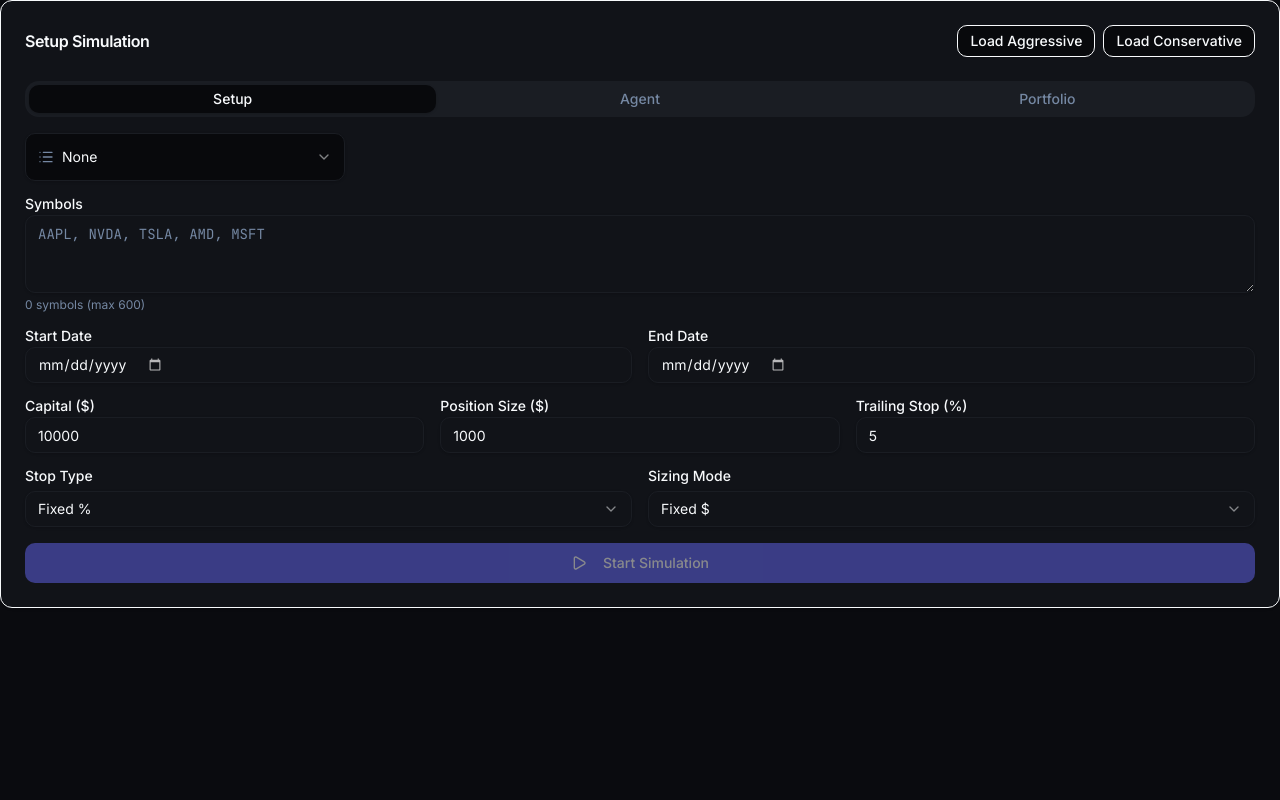
Test case: ArenaSetupForm › should enable submit button with valid inputs
Type "AAPL" into the text box labelled "Symbols". click: coordinates (640, 254)
box: [25,215,1255,293]
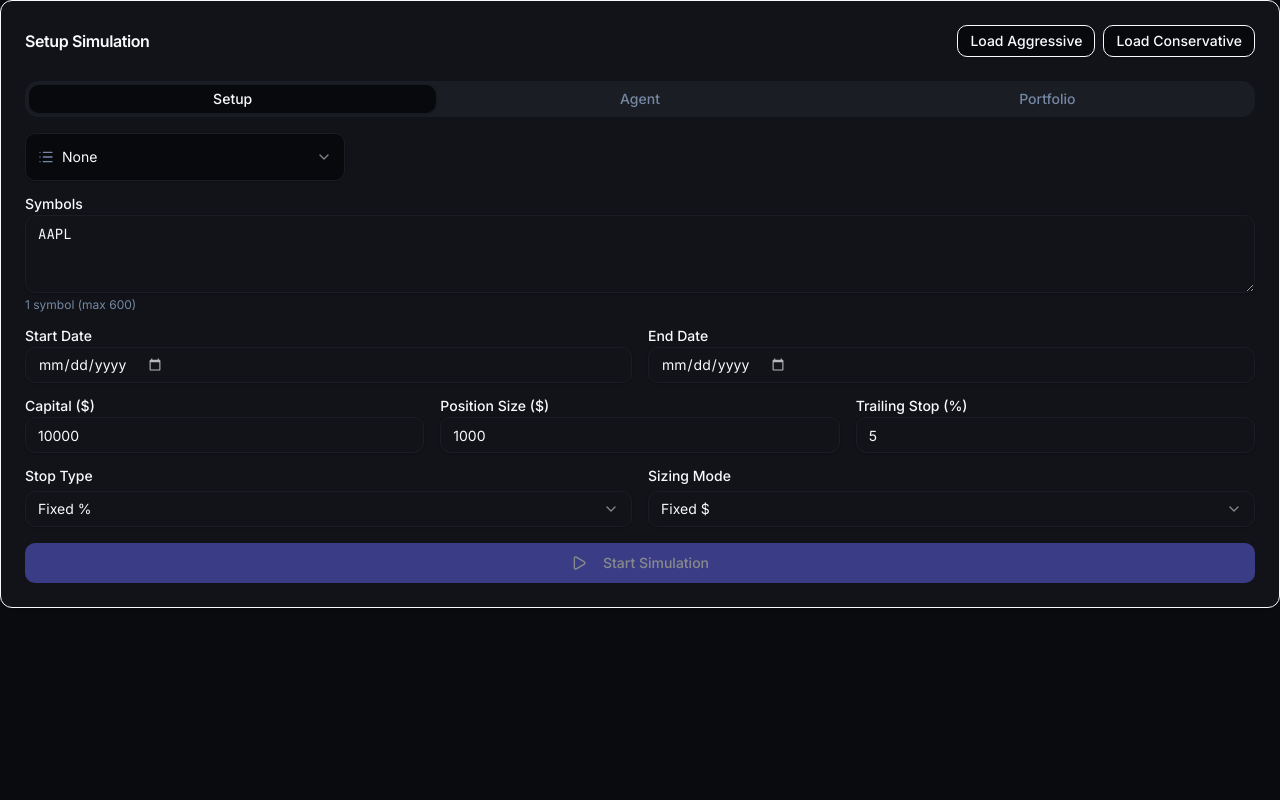
Type "2024-01-01" into the date field labelled "Start Date". click: coordinates (328, 365)
box: [25,347,632,383]
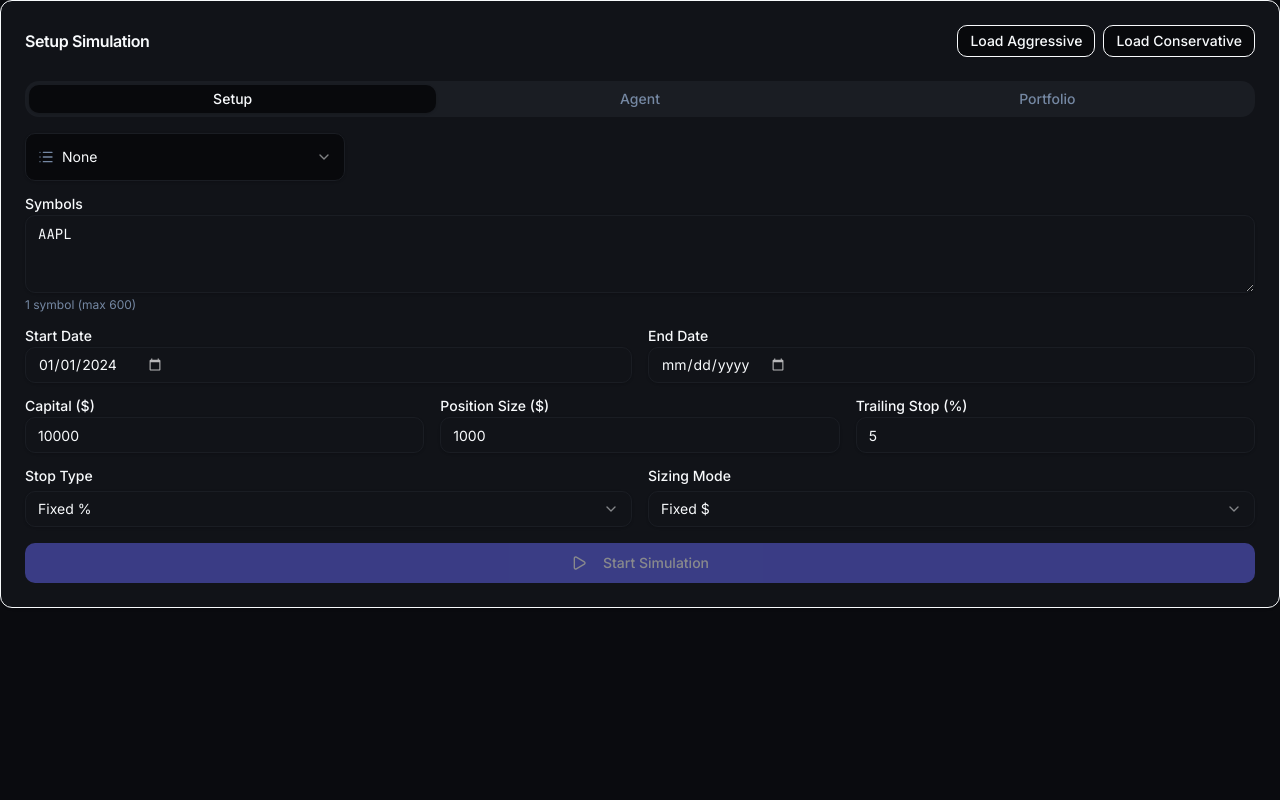
Type "2024-01-15" into the date field labelled "End Date". click: coordinates (952, 365)
box: [648,347,1255,383]
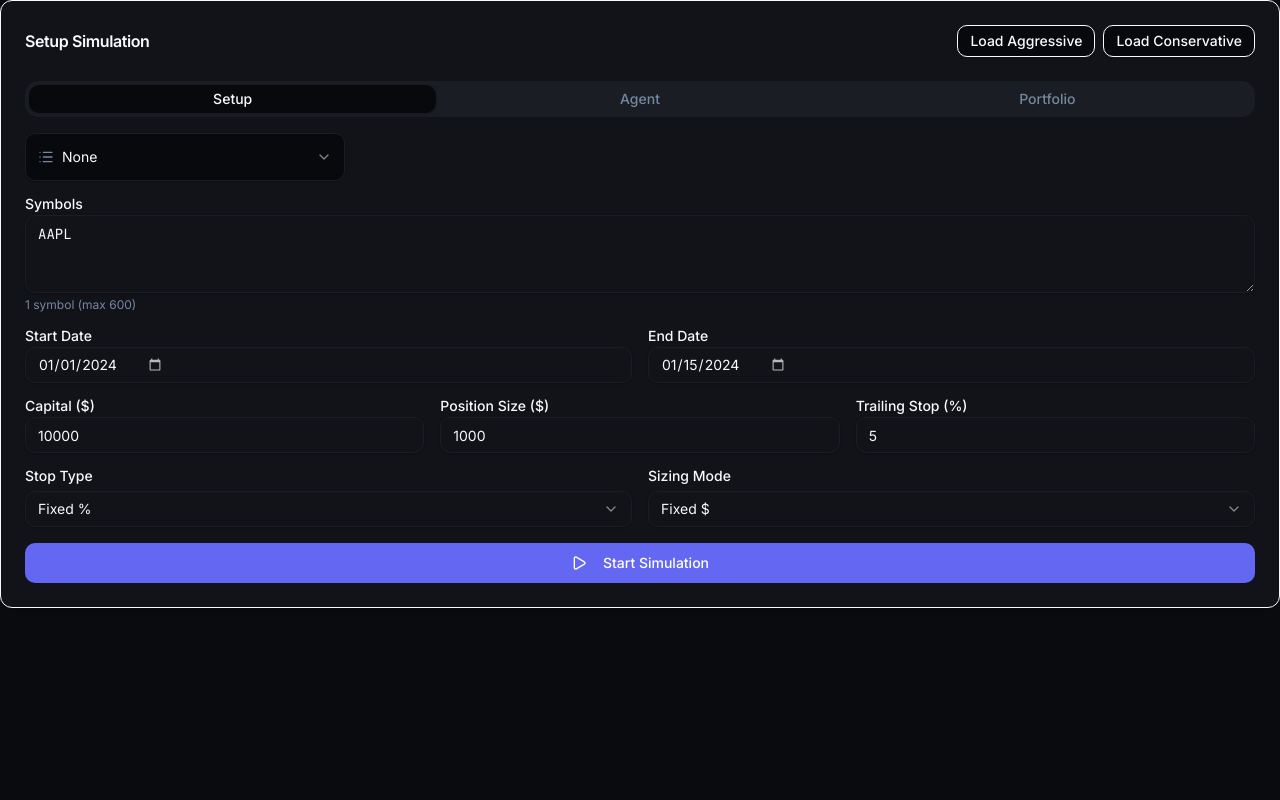
Now the button "Start Simulation" is enabled, box [25,543,1255,583]
